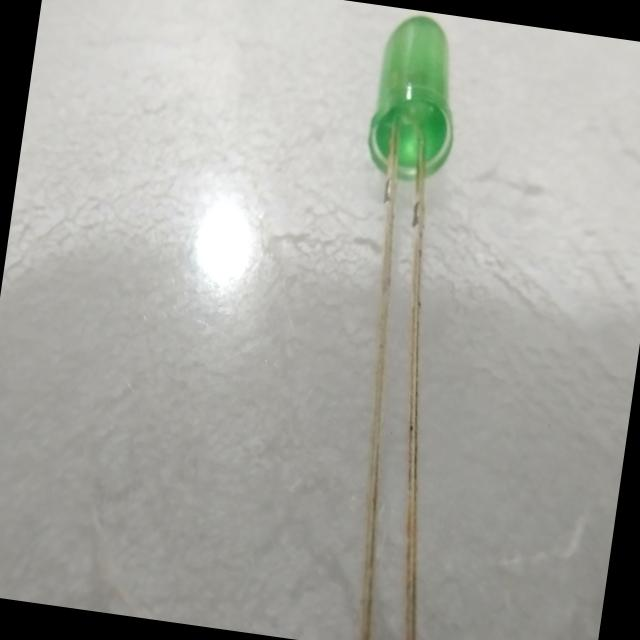green_led: (356, 5, 486, 196)
